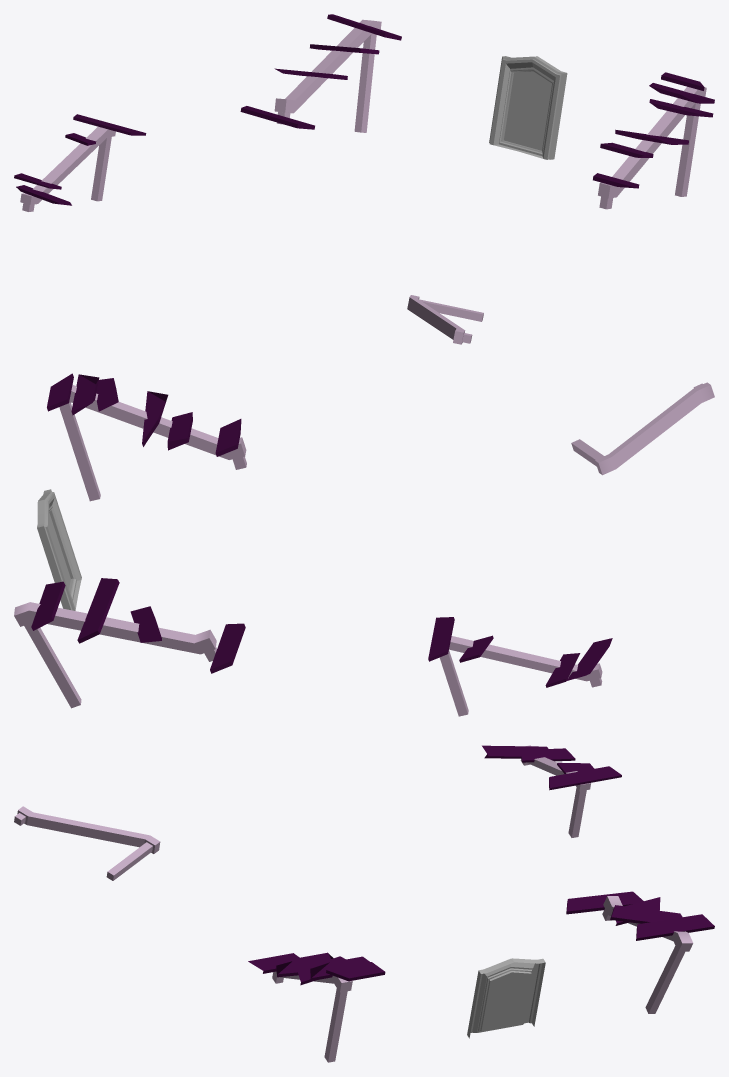
File: BrokenStaircasesAndDoorMesh.fbx
The picture shows the model from 3 angles, top to bottom: view 1: azimuth 30°, elevation 25°; view 2: azimuth 150°, elevation 25°; view 3: azimuth 270°, elevation 25°; orthographic projection. The views are drawn at different scales.
Parts seen in each view (by area): view 1: pCube80, pCube84, pCube97, pCube65, pCube110, pCube74, pCube93; view 2: pCube84, pCube97, pCube80, pCube110, pCube65, pCube79, pCube74, pCube109, pCube91, pCube105, pCube59, pCube93 (+6 smaller); view 3: pCube80, pCube110, pCube84, pCube97, pCube109, pCube65, pCube91, pCube74, pCube79, pCube94, pCube108, pCube96 (+1 smaller).
Part boxes in pixels (x1=…): pCube80: x1=489, y1=56, x2=567, y2=159; pCube84: x1=274, y1=19, x2=381, y2=132; pCube97: x1=598, y1=86, x2=706, y2=209; pCube65: x1=20, y1=126, x2=115, y2=211; pCube110: x1=407, y1=295, x2=483, y2=344; pCube74: x1=240, y1=106, x2=314, y2=129; pCube93: x1=649, y1=83, x2=714, y2=103; pCube84: x1=14, y1=602, x2=216, y2=708; pCube97: x1=59, y1=385, x2=246, y2=501; pCube80: x1=37, y1=489, x2=81, y2=610; pCube110: x1=571, y1=382, x2=714, y2=475; pCube65: x1=439, y1=636, x2=602, y2=716; pCube79: x1=77, y1=578, x2=119, y2=643; pCube74: x1=210, y1=623, x2=245, y2=673; pCube109: x1=31, y1=581, x2=65, y2=630; pCube91: x1=428, y1=617, x2=454, y2=661; pCube105: x1=142, y1=391, x2=168, y2=446; pCube59: x1=130, y1=606, x2=161, y2=642; pCube93: x1=71, y1=374, x2=99, y2=415; pCube80: x1=467, y1=958, x2=545, y2=1038; pCube110: x1=14, y1=806, x2=160, y2=880; pCube84: x1=602, y1=896, x2=693, y2=1013; pCube97: x1=272, y1=971, x2=352, y2=1062; pCube109: x1=636, y1=914, x2=714, y2=940; pCube65: x1=520, y1=745, x2=591, y2=837; pCube91: x1=549, y1=766, x2=621, y2=790; pCube74: x1=566, y1=891, x2=643, y2=914; pCube79: x1=610, y1=905, x2=682, y2=923; pCube94: x1=326, y1=962, x2=385, y2=981; pCube108: x1=520, y1=748, x2=575, y2=762; pCube96: x1=482, y1=745, x2=548, y2=758.
Size of the model in its own units: 320 by 67.61 by 348.
